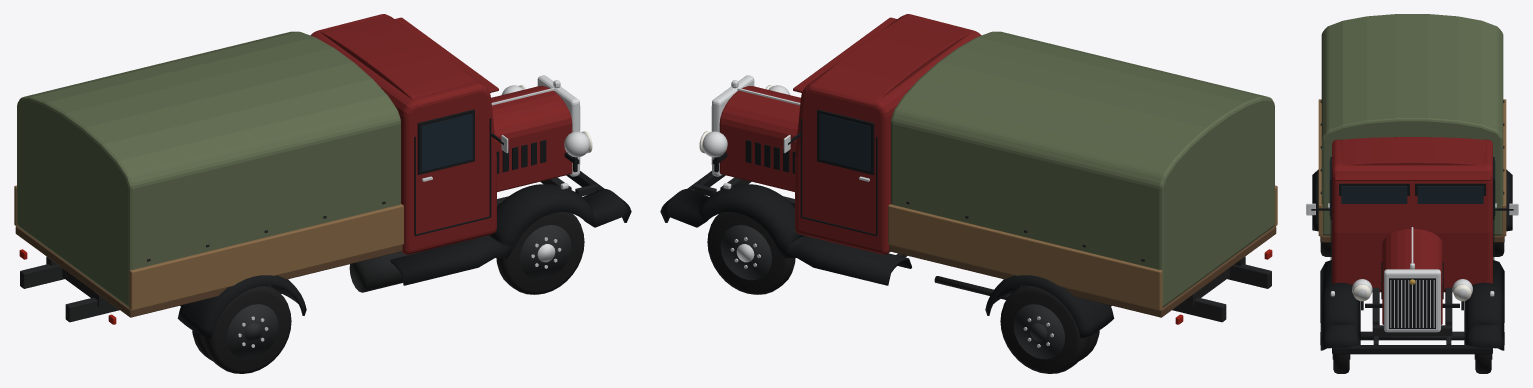
Rendered from balogh_goods_truck.glb.
3 views of the same model, side by side, from view 1: azimuth 30°, elevation 25°; view 2: azimuth 150°, elevation 25°; view 3: azimuth 270°, elevation 25° (orthographic). The views are drawn at different scales.
Visible parts, largest first — view 1: lona, cabine, guarda_lateral.001, paralama_d.001, teto_abaulado, capo, roda_t_pneu0.001, roda_d_pneu0.001, piso, paralama_t.001, janela_lateral.001, roda_t_disco0.001 (+8 smaller); view 2: lona, cabine, guarda_lateral, paralama_d, teto_abaulado, capo, roda_t_pneu1, roda_d_pneu0, piso, paralama_t, janela_lateral, roda_t_disco1 (+7 smaller); view 3: lona, cabine, teto_abaulado, paralama_d.001, paralama_d, capo, radiador_colmeia, para_choque, radiador_moldura, parabrisa, parabrisa.001, pala (+16 smaller).
Boxes of the visible parts, <box> form: lona: <box>17,31,400,307</box>; cabine: <box>310,14,496,254</box>; guarda_lateral.001: <box>129,204,403,310</box>; paralama_d.001: <box>390,184,631,285</box>; teto_abaulado: <box>320,17,481,104</box>; capo: <box>491,86,572,191</box>; roda_t_pneu0.001: <box>203,285,291,373</box>; roda_d_pneu0.001: <box>496,212,584,294</box>; piso: <box>15,226,402,317</box>; paralama_t.001: <box>177,275,306,338</box>; janela_lateral.001: <box>421,114,472,171</box>; roda_t_disco0.001: <box>227,304,278,359</box>; lona: <box>891,31,1274,307</box>; cabine: <box>795,14,981,254</box>; guarda_lateral: <box>888,204,1162,310</box>; paralama_d: <box>660,184,911,285</box>; teto_abaulado: <box>810,17,971,104</box>; capo: <box>719,86,800,191</box>; roda_t_pneu1: <box>1000,285,1088,373</box>; roda_d_pneu0: <box>707,212,795,294</box>; piso: <box>889,226,1276,317</box>; paralama_t: <box>985,275,1114,338</box>; janela_lateral: <box>819,114,870,171</box>; roda_t_disco1: <box>1013,304,1064,359</box>; lona: <box>1321,14,1503,235</box>; cabine: <box>1332,139,1492,292</box>; teto_abaulado: <box>1332,137,1492,167</box>; paralama_d.001: <box>1320,260,1360,350</box>; paralama_d: <box>1464,260,1504,350</box>; capo: <box>1382,229,1442,324</box>; radiador_colmeia: <box>1389,278,1435,328</box>; para_choque: <box>1332,345,1492,354</box>; radiador_moldura: <box>1384,269,1440,332</box>; parabrisa: <box>1417,186,1483,203</box>; parabrisa.001: <box>1341,186,1407,203</box>; pala: <box>1334,175,1490,180</box>.
Size of the model in its own units: 5.69 by 2.46 by 2.45.
